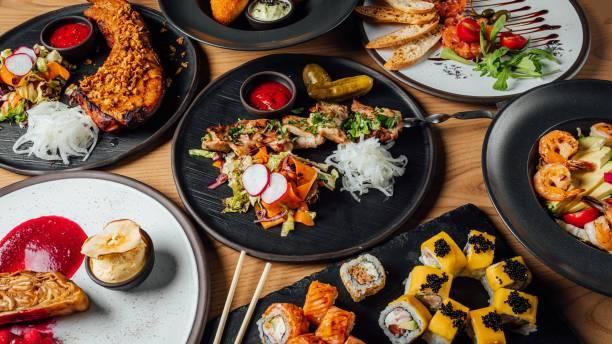Braised Crucian Carp: (171, 52, 433, 262), (206, 206, 565, 344), (0, 172, 210, 344), (0, 1, 202, 174), (483, 79, 611, 303), (365, 0, 592, 105)
